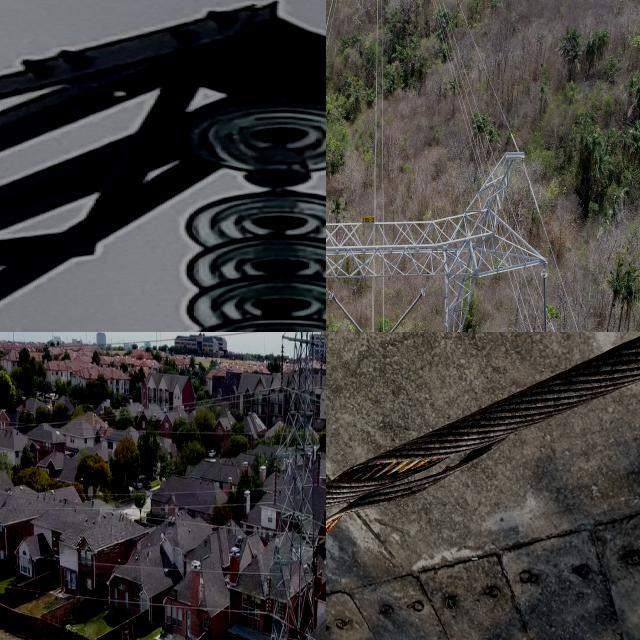杆塔: (326, 135, 562, 332), (259, 332, 324, 640)
正常绝缘子: (147, 75, 326, 332), (327, 284, 369, 332), (383, 288, 426, 332), (539, 265, 550, 332), (264, 572, 274, 615), (278, 338, 286, 388), (272, 460, 279, 507), (315, 448, 323, 488), (318, 345, 324, 389), (314, 540, 321, 575)
绝缘子破损: (239, 156, 315, 189)
